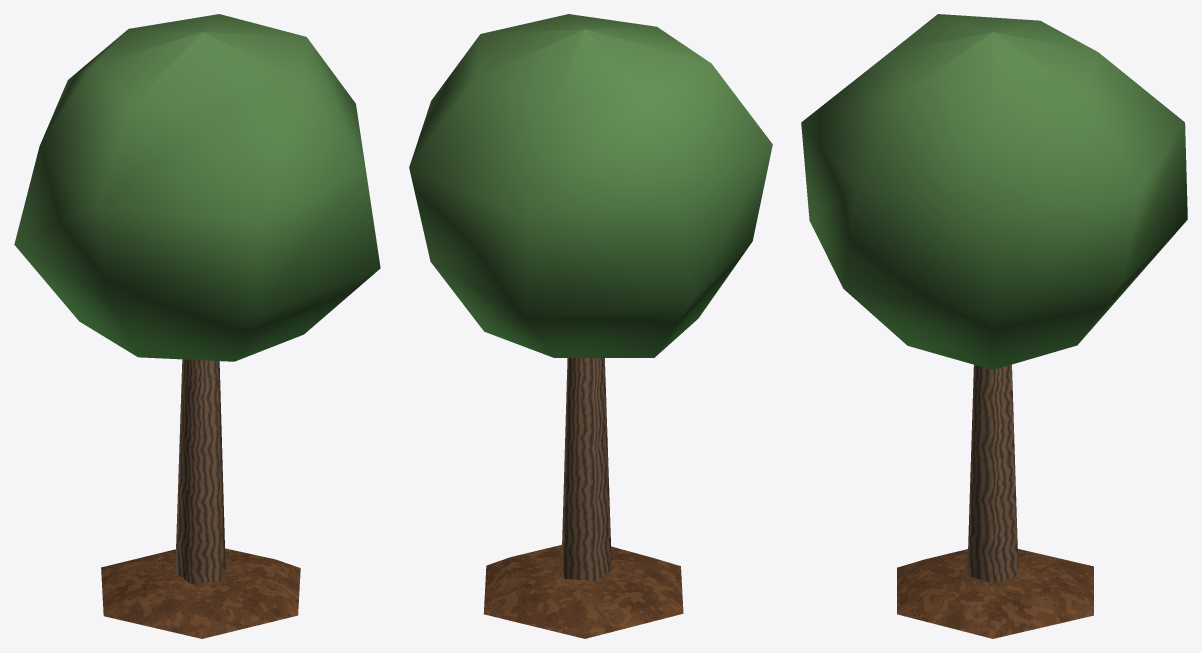
File: plant-mango-4-far.glb
The picture shows the model from 3 angles, left to right: view 1: azimuth 30°, elevation 25°; view 2: azimuth 150°, elevation 25°; view 3: azimuth 270°, elevation 25°; orthographic projection.
Parts seen in each view (by area): view 1: plant-mango-4-far; view 2: plant-mango-4-far; view 3: plant-mango-4-far.
Part boxes in pixels (x1=…): plant-mango-4-far: x1=14, y1=14, x2=380, y2=638; plant-mango-4-far: x1=409, y1=14, x2=772, y2=638; plant-mango-4-far: x1=801, y1=14, x2=1187, y2=638.
Bounding box in the file's own units: 1.56 × 2.71 × 1.7.
3 materials, 2 textured.
